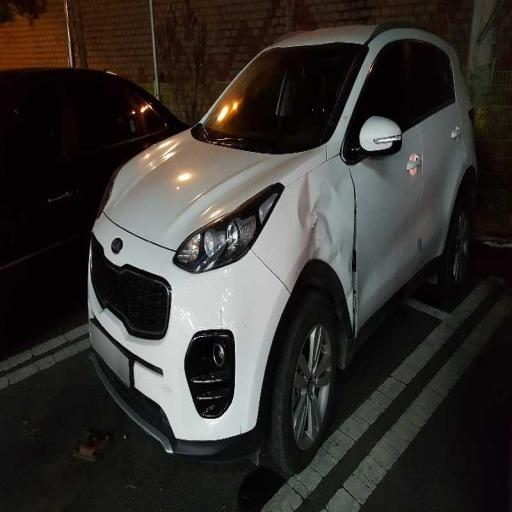broken: (337, 170, 398, 335)
dent: (262, 152, 347, 278)
